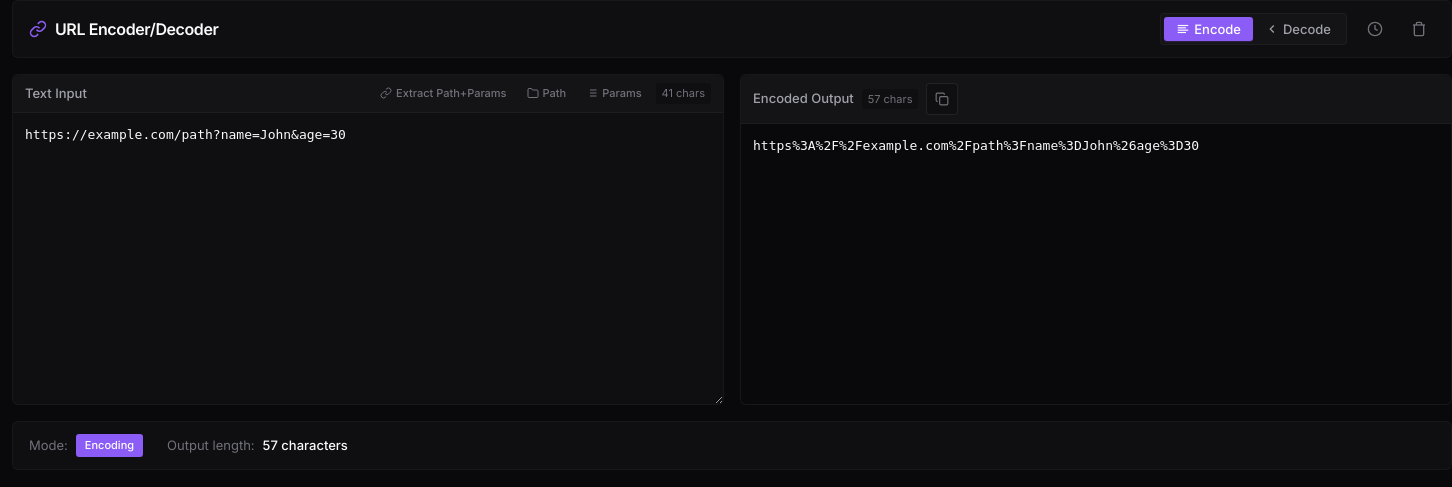
Test case: UrlTool › should encode text correctly
Replace the text in the text box named "text to encode" with "hello world" at (368, 258), box [13,112,723,404]
Wait 250 ms
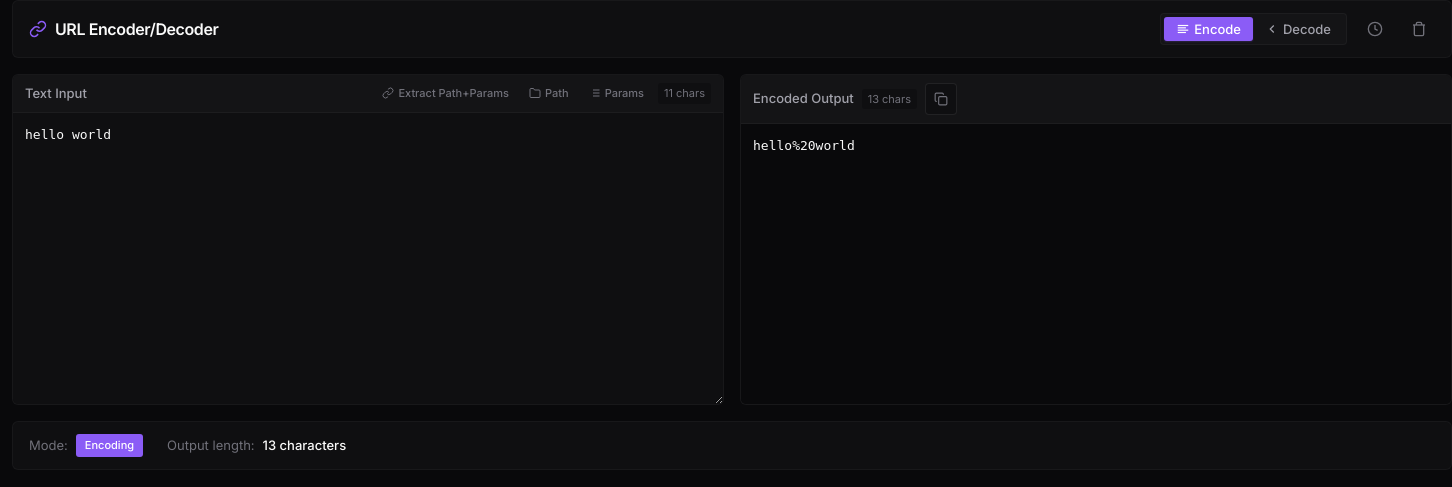
expect the text with test id "output-content" reads "hello%20world": met, box [753,138,855,153]
